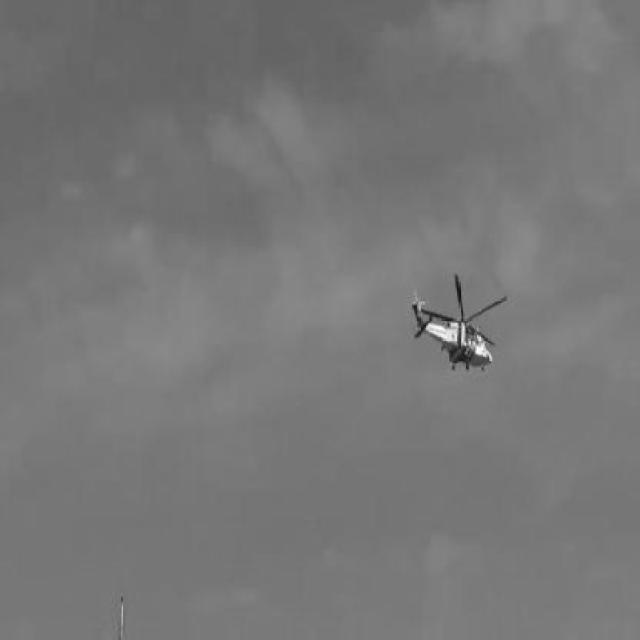helikopter: (410, 273, 508, 372)
